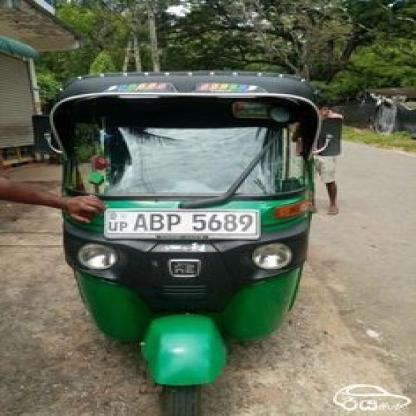number plate: (102, 209, 256, 235)
three wheeler front: (31, 56, 344, 413)
